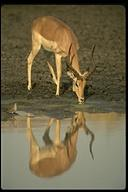antelope: (25, 14, 98, 106)
water: (3, 121, 122, 188)
